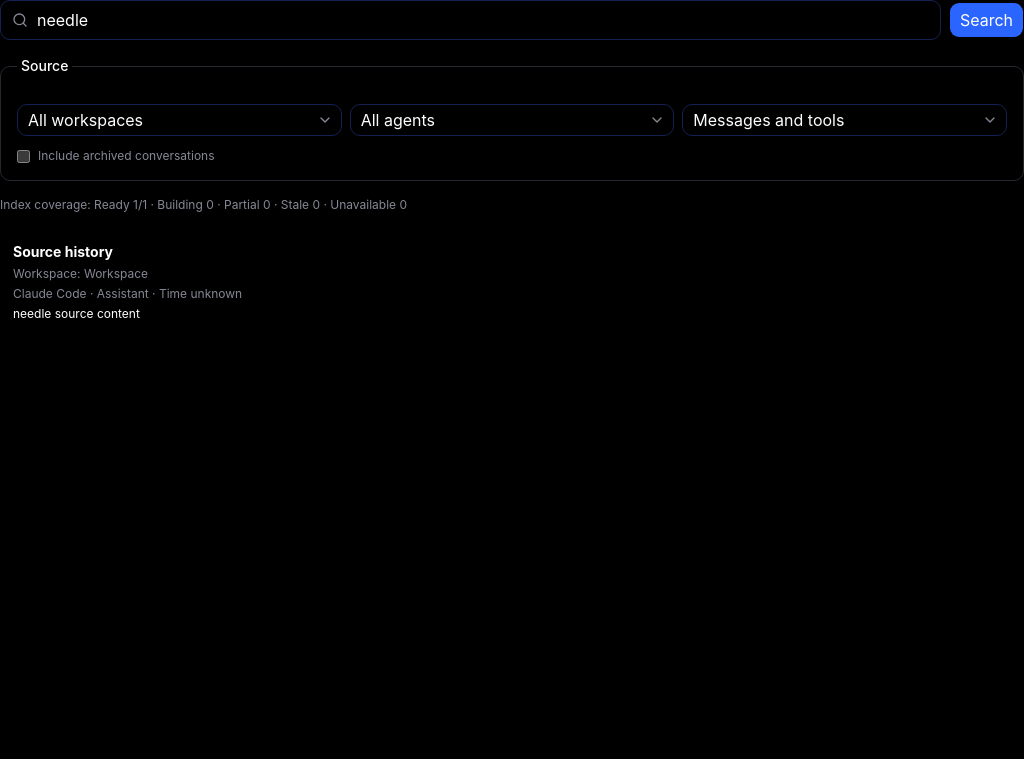
Test: explicit history session opening › allows cancelling a cross-session opening without touching the draft or references
Click the button "Source history" at coordinates (63, 252), box [0,229,1023,335]
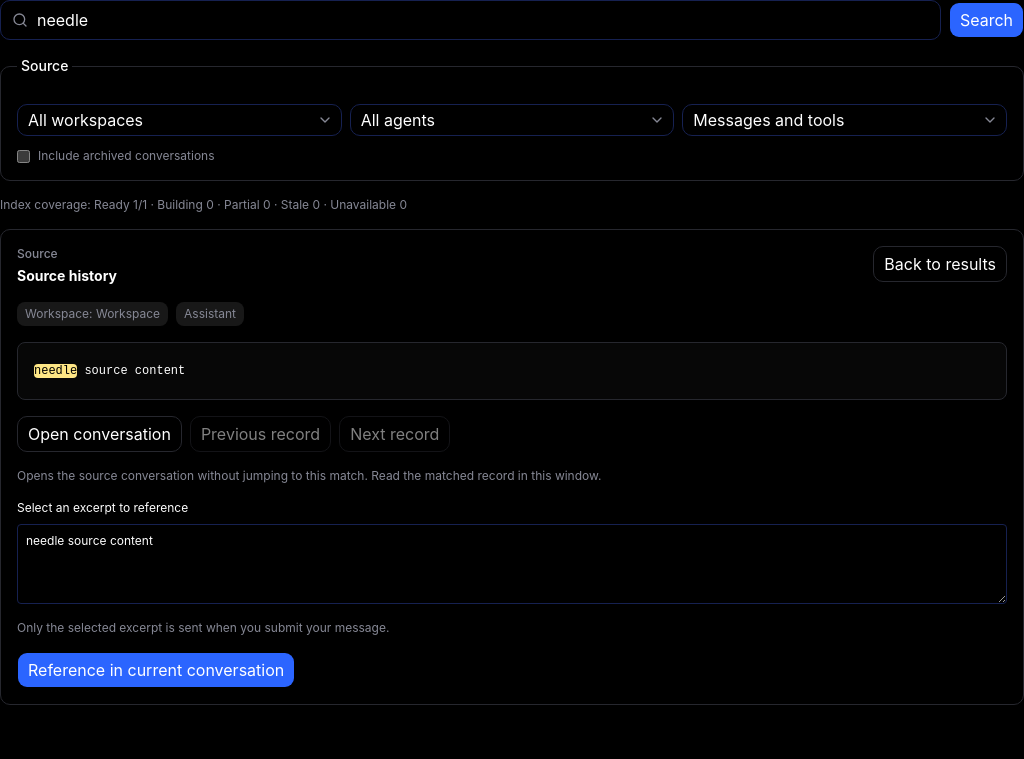
Expected: the element "Source" is shown
Click the button "Open conversation" at coordinates (99, 434), box [17,416,182,452]
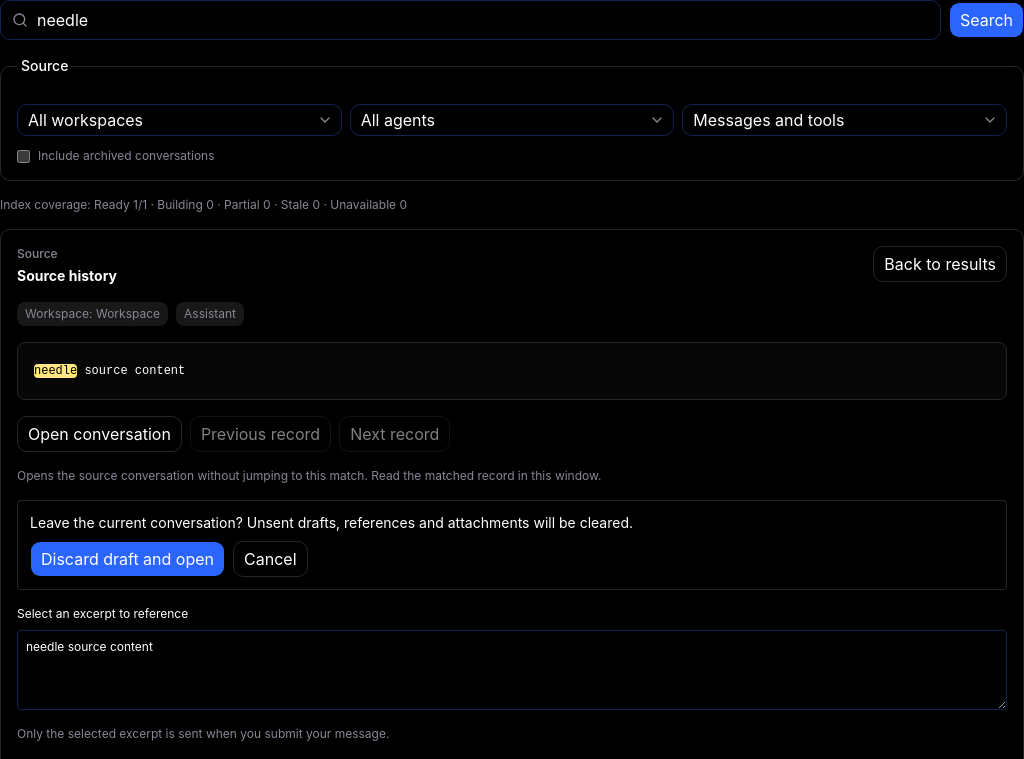
Expected: the button "Open conversation" is enabled, [17,416,182,452]
Expected: the element named "Leave the current conversation? Unsent drafts, references and attachments will be cleared." is shown, [17,500,1007,590]
Click the button "Cancel" at coordinates (270, 559), box [233,541,308,577]
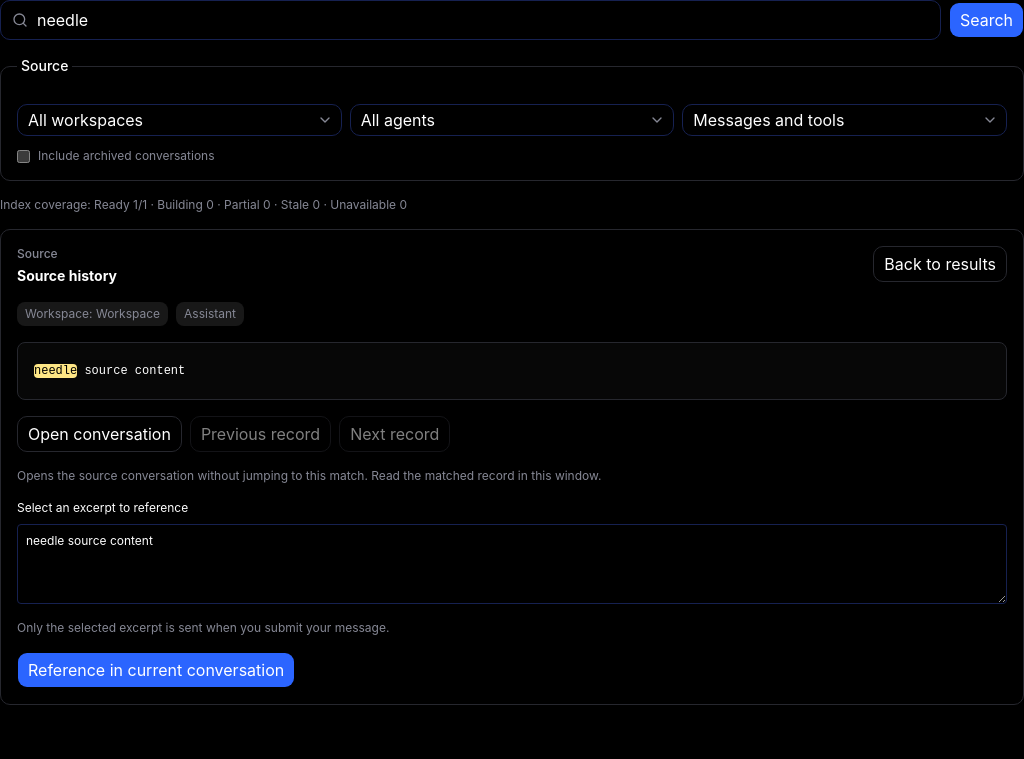
Expected: the element "Source" is shown
Expected: the text "Leave the current conversation? Unsent drafts, references and attachments will be cleared." is gone
